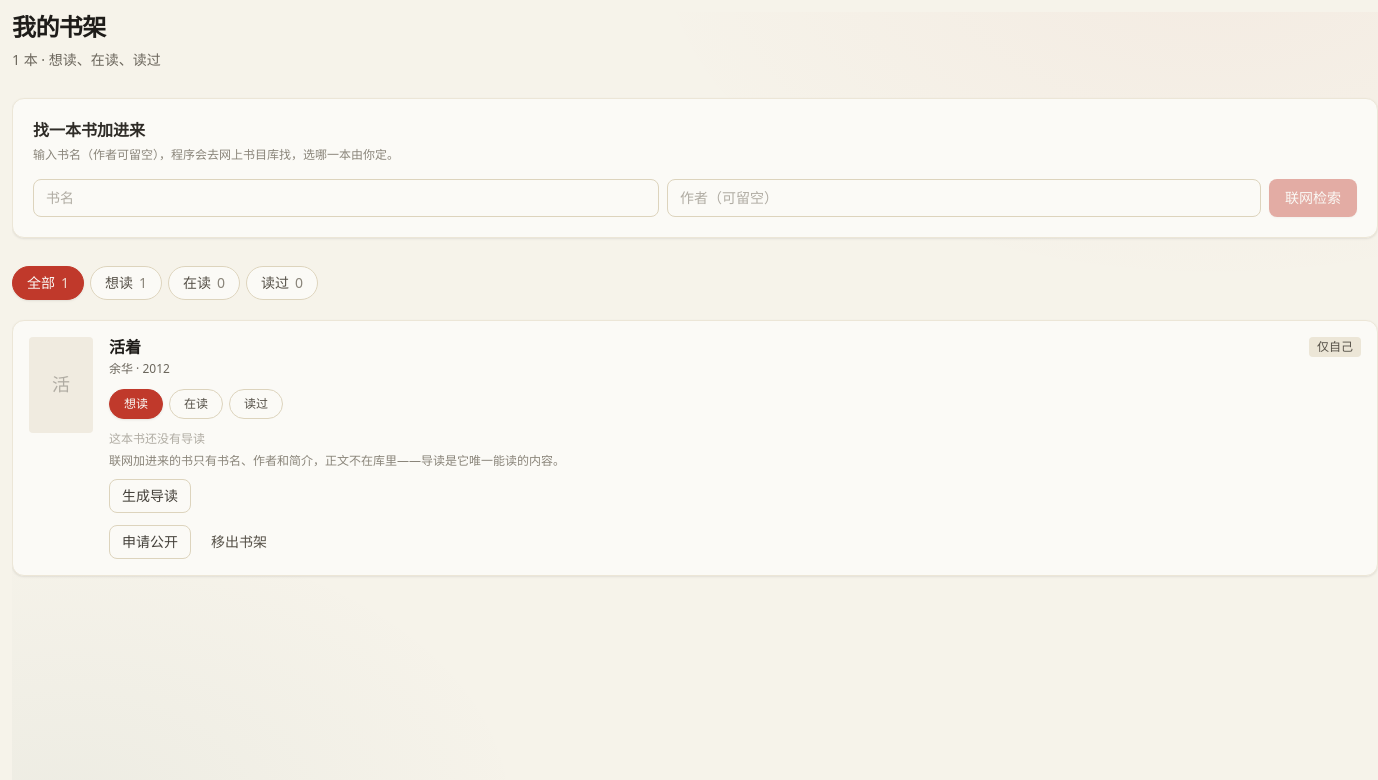
Test: 导读就是这本书的正文 › 重新生成失败时把原因显示在卡片上，不静默
Check: the text "这本书还没有导读" is shown, box [109,430,205,447]
Step 1. Click the button "生成导读" → (150, 496), box [109,478,191,512]
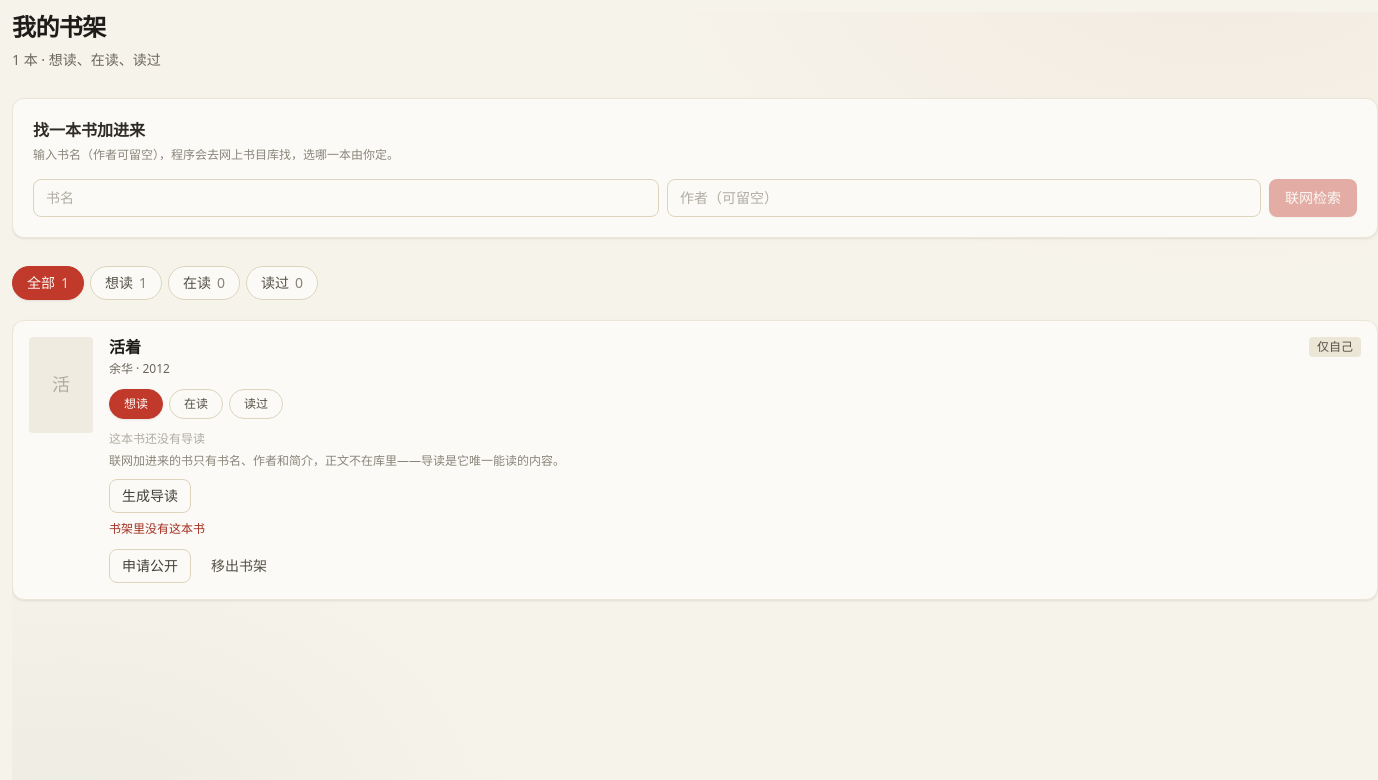
Check: the message reads "书架里没有这本书", box [109,520,205,536]
